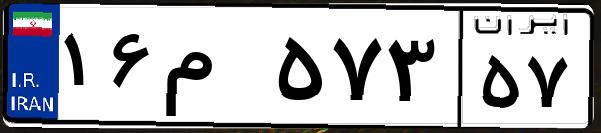1: (57, 26, 110, 100)
3: (385, 28, 445, 110)
5: (270, 28, 330, 110), (475, 38, 525, 113)
6: (110, 28, 158, 98)
7: (330, 28, 385, 110), (525, 38, 570, 115)
م: (158, 20, 270, 120)
